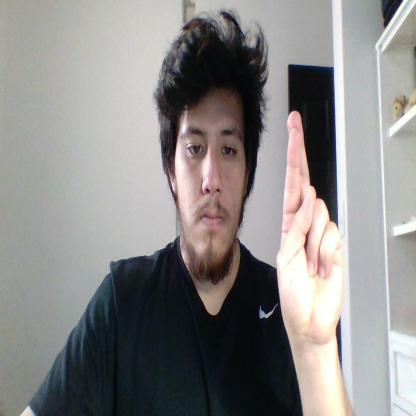R: (275, 111, 343, 348)
